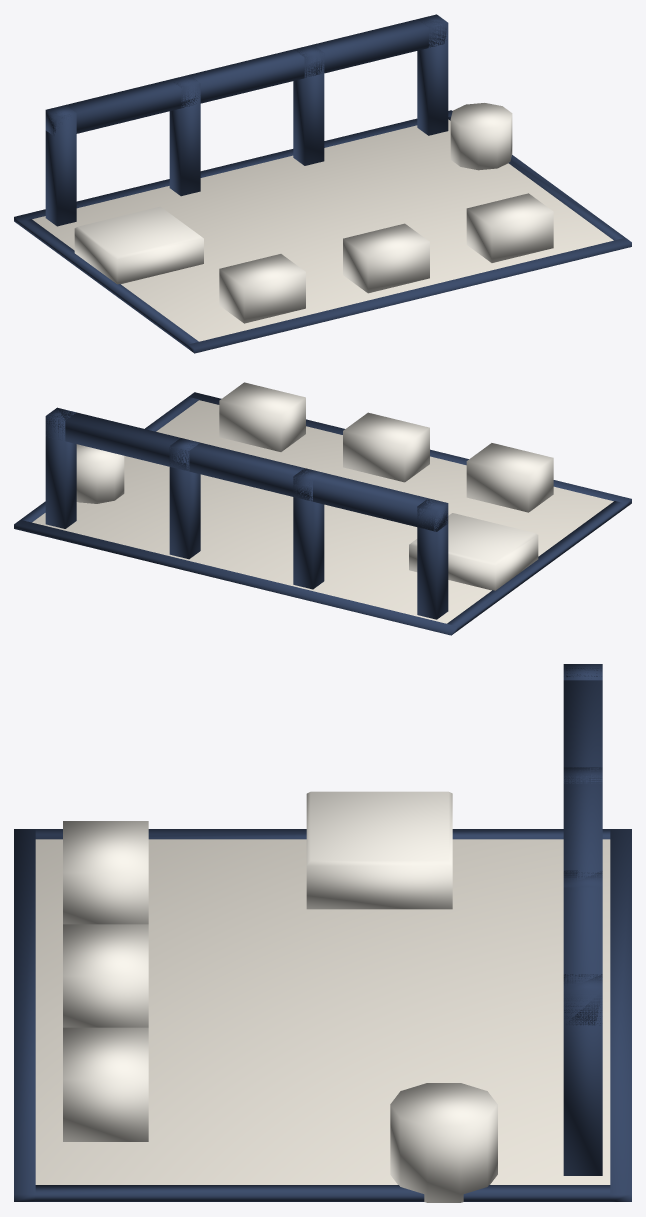
File: subestacao-grande.glb
3 views of the same model, one above another, from view 1: azimuth 30°, elevation 25°; view 2: azimuth 150°, elevation 25°; view 3: azimuth 270°, elevation 25° (orthographic). The views are drawn at different scales.
Parts seen in each view (by area): view 1: subestacao-grande; view 2: subestacao-grande; view 3: subestacao-grande.
Boxes of the visible parts, <box> form: subestacao-grande: <box>14,14,631,353</box>; subestacao-grande: <box>14,382,631,635</box>; subestacao-grande: <box>14,664,631,1202</box>.
Size of the model in its own units: 106 by 26 by 75.8.
